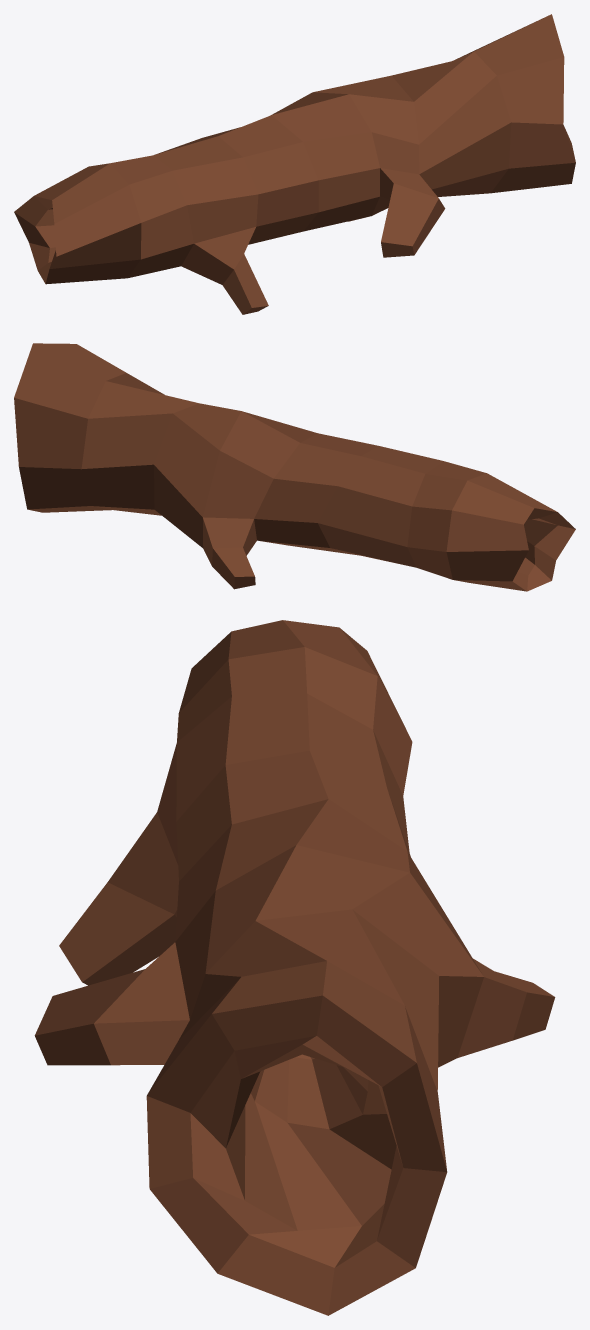
File: Cduto.fbx
The picture shows the model from 3 angles, top to bottom: view 1: azimuth 30°, elevation 25°; view 2: azimuth 150°, elevation 25°; view 3: azimuth 270°, elevation 25°; orthographic projection. The views are drawn at different scales.
Visible parts, largest first — view 1: Caduto; view 2: Caduto; view 3: Caduto.
Part boxes in pixels (<box>): Caduto: <box>14,14,575,314</box>; Caduto: <box>14,343,575,591</box>; Caduto: <box>34,620,555,1315</box>.
Size of the model in its own units: 850 by 264 by 375.
